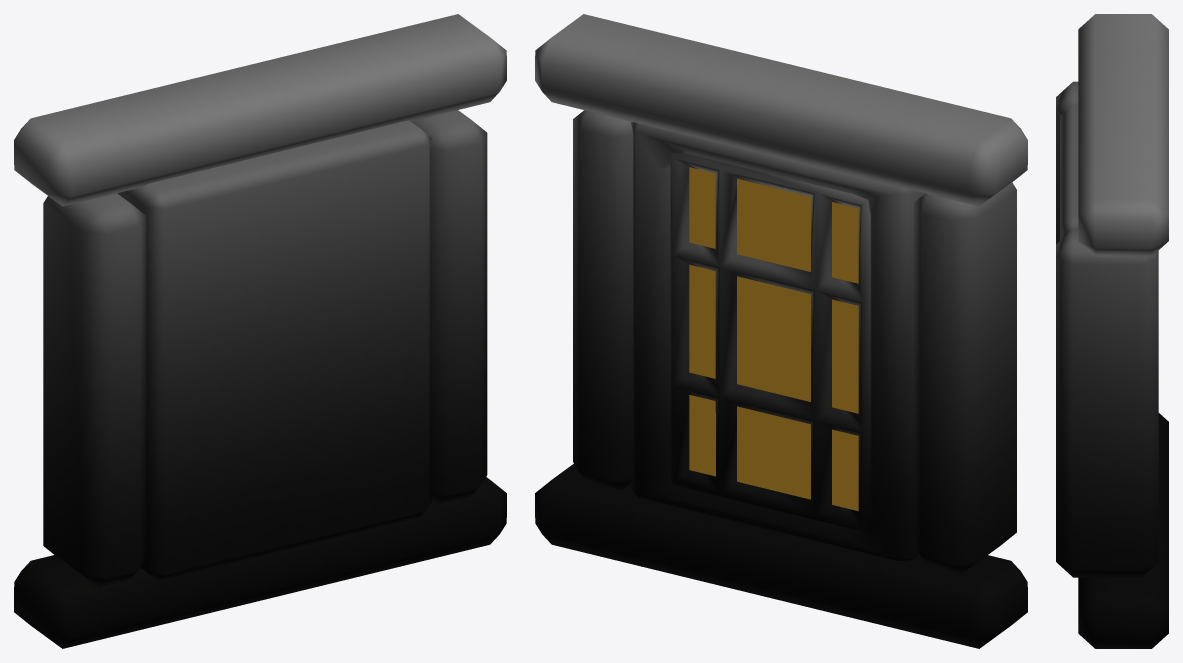
Rendered from SM_Brick_Window_06.fbx.
3 views of the same model, side by side, from view 1: azimuth 30°, elevation 25°; view 2: azimuth 150°, elevation 25°; view 3: azimuth 270°, elevation 25° (orthographic). The views are drawn at different scales.
Parts seen in each view (by area): view 1: SM_Brick_Window_06; view 2: SM_Brick_Window_06; view 3: SM_Brick_Window_06.
Boxes of the visible parts, x1,y1,x2,y2 form: SM_Brick_Window_06: (14,14,506,648); SM_Brick_Window_06: (535,14,1027,648); SM_Brick_Window_06: (1056,14,1168,648).
Bounding box in the file's own units: 0.4009 × 0.4218 × 0.0958.
